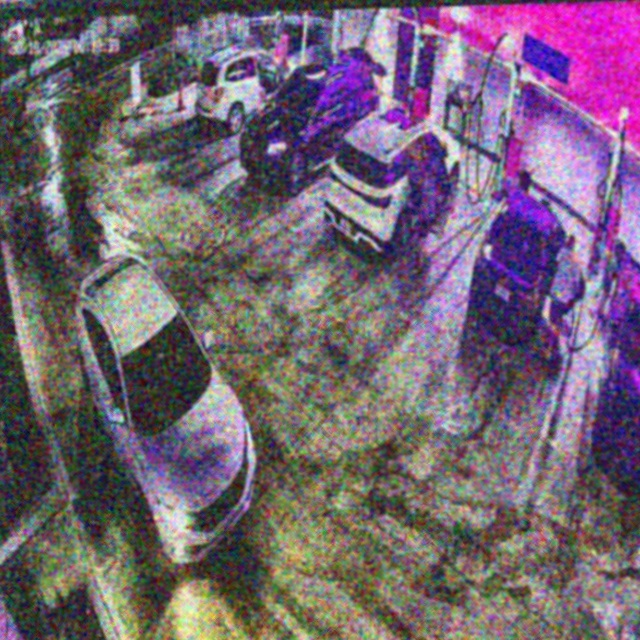Car: (68, 252, 260, 572), (323, 105, 463, 265), (243, 49, 382, 192), (469, 191, 566, 351)
